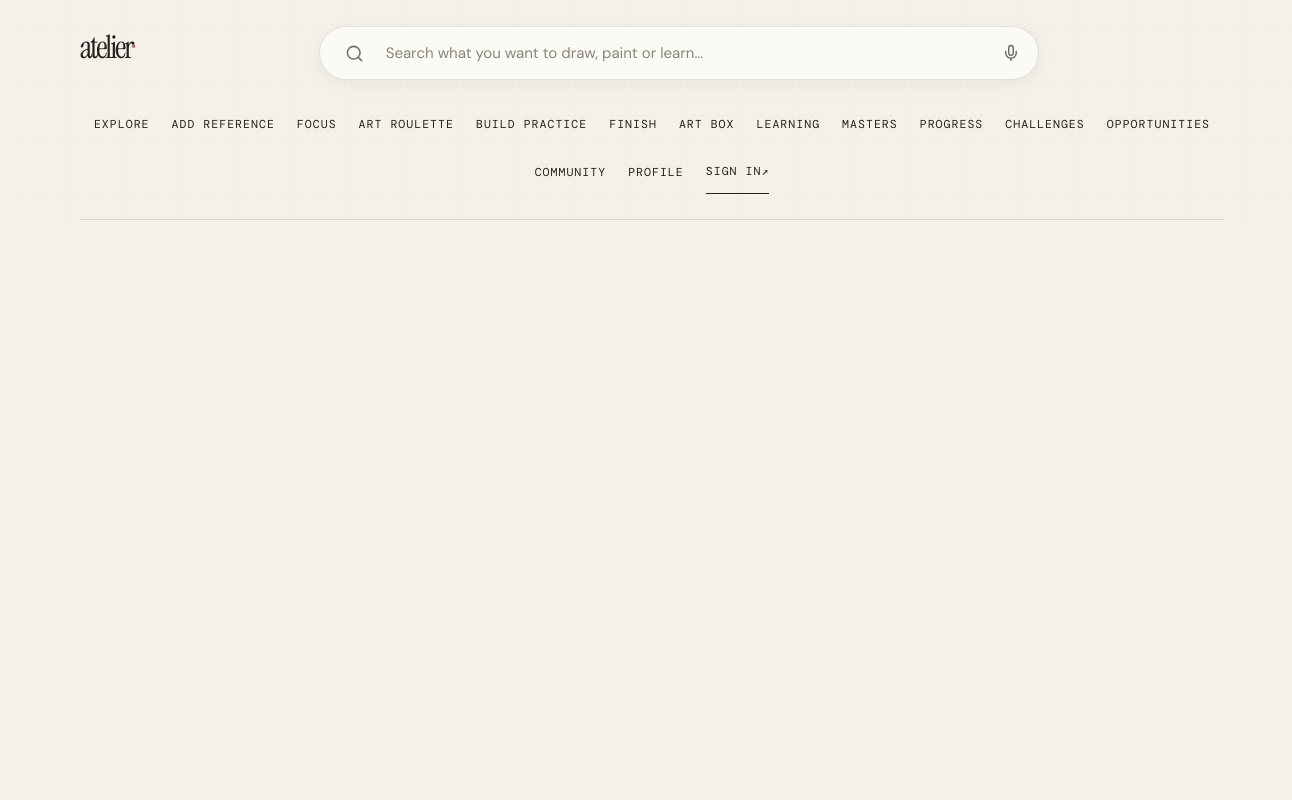
Test: supports arrow selection and Escape, and tolerates corrupt recent searches
This screenshot has width=1292, height=800.
Click the dropdown named "Search Atelier": [683, 53] box [384, 31, 982, 75]
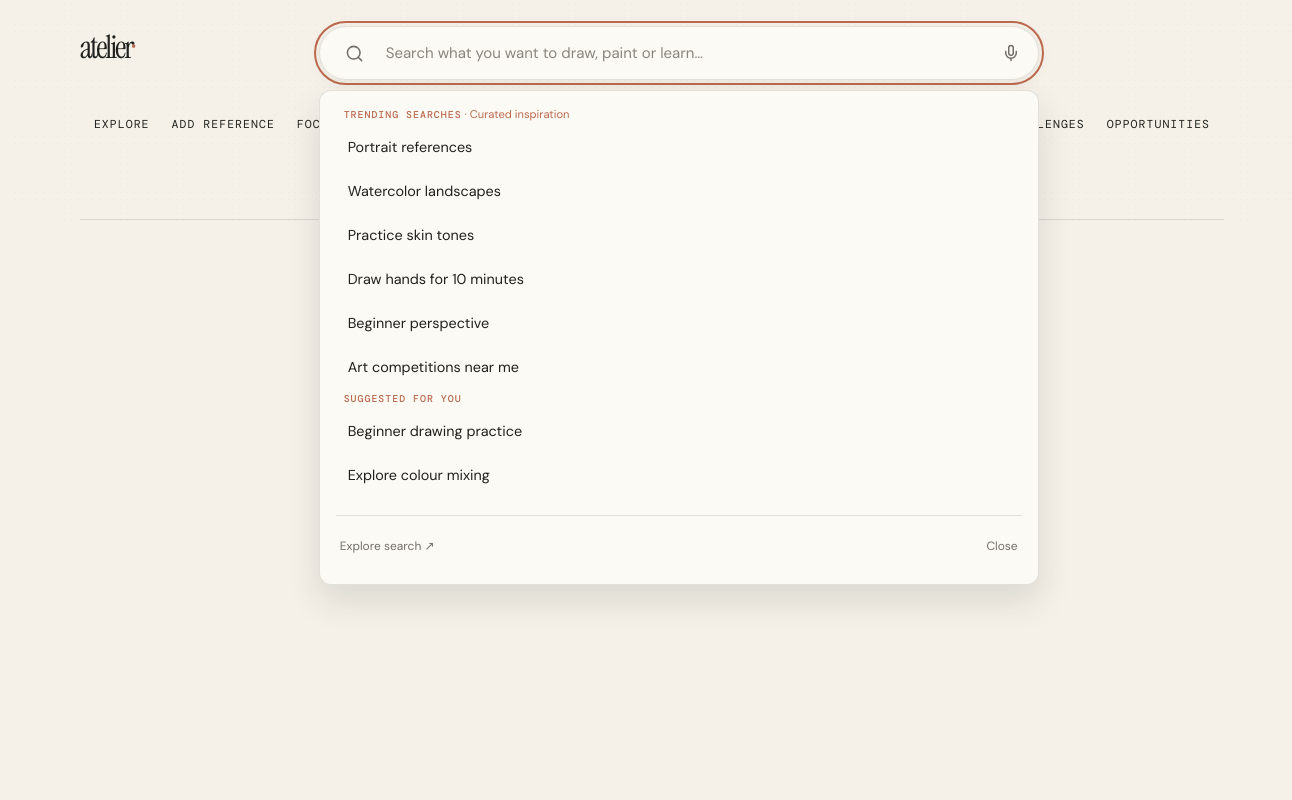
Expected: the text "Suggested For You" is shown, [344, 392, 462, 405]
Press Escape
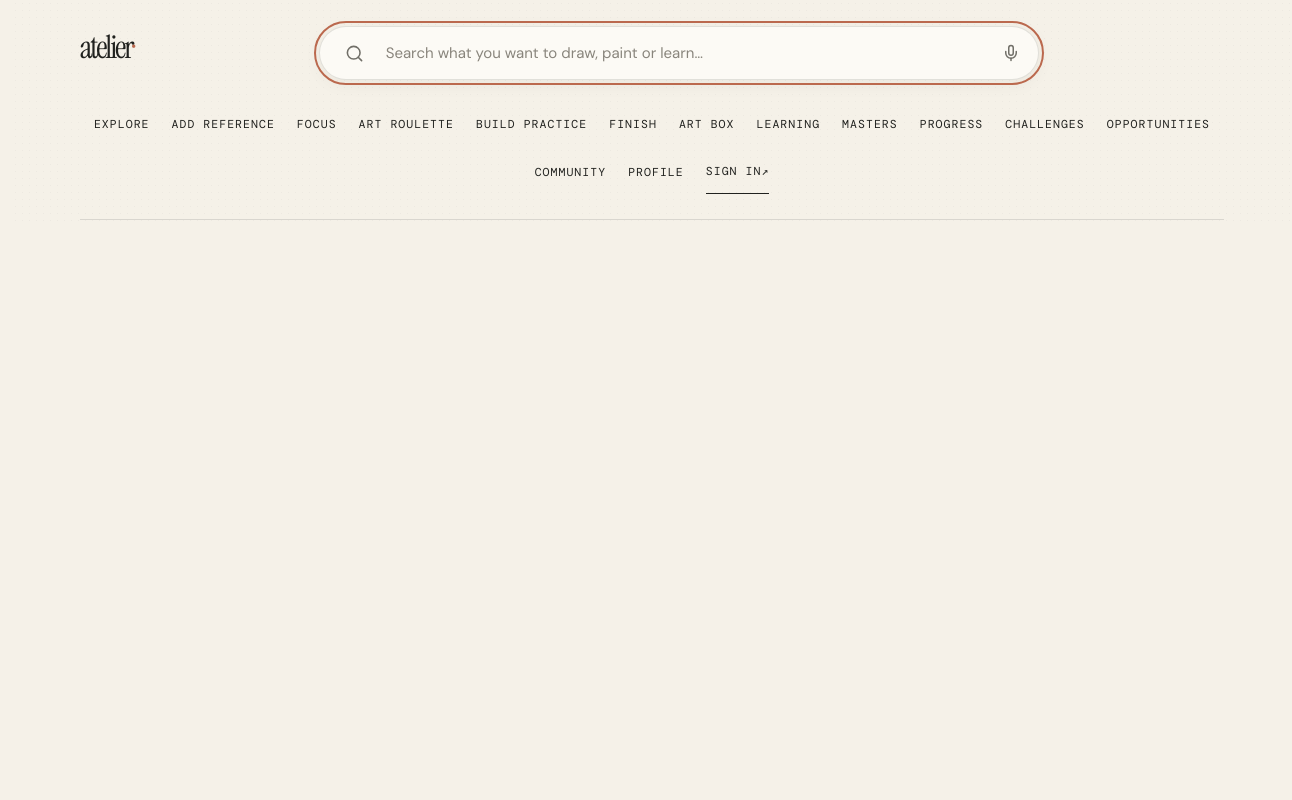
Expected: the list is gone
In the dropdown named "Search Atelier": [683, 53] box [384, 31, 982, 75], type "portrait"
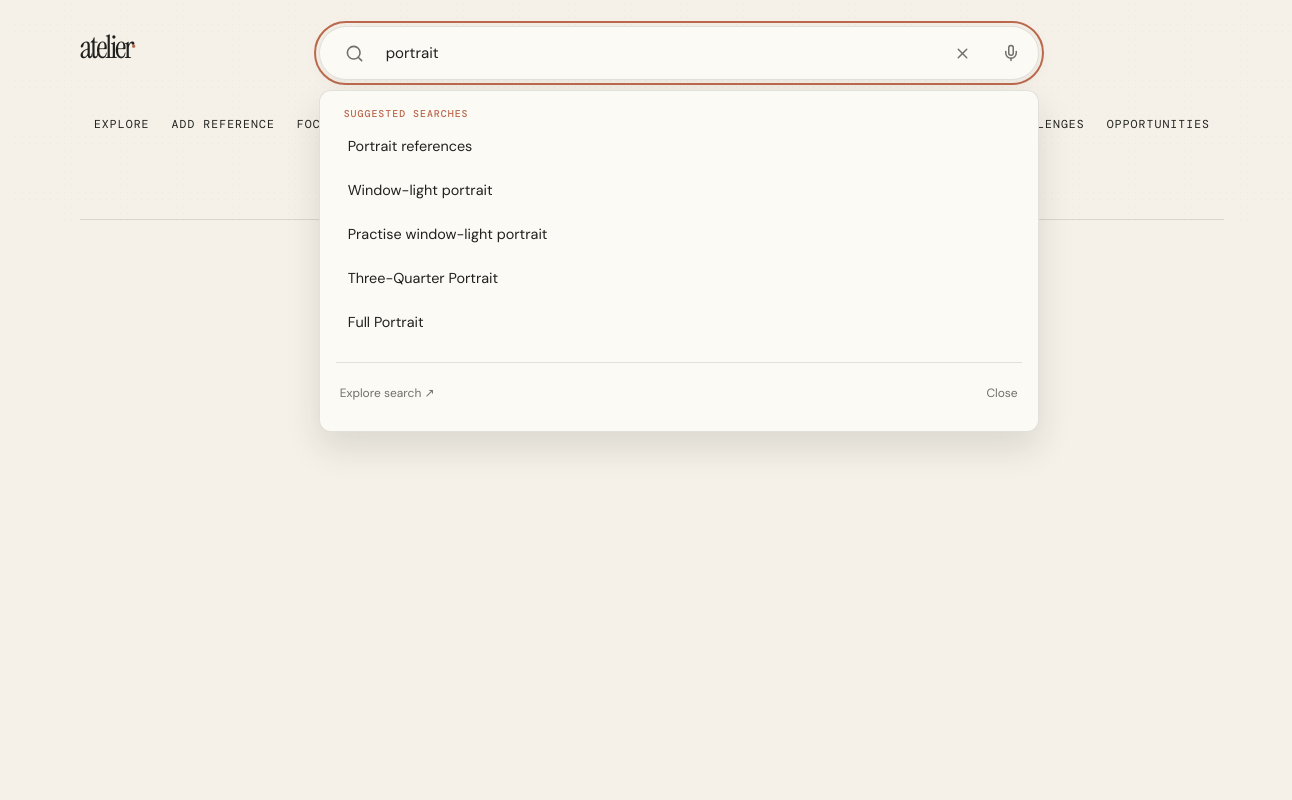
Press Arrowdown Enter
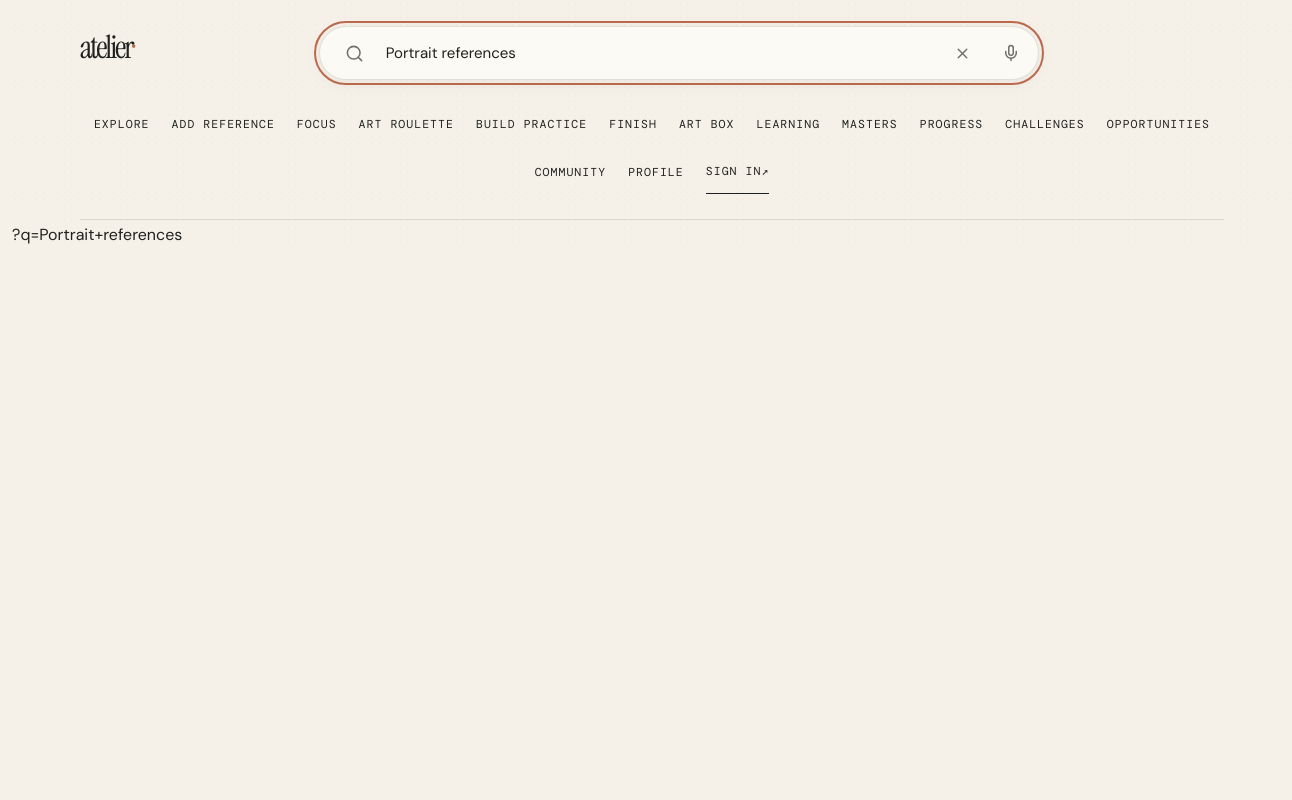
Expected: the text "?q=Portrait+references" is shown, [12, 224, 182, 245]
